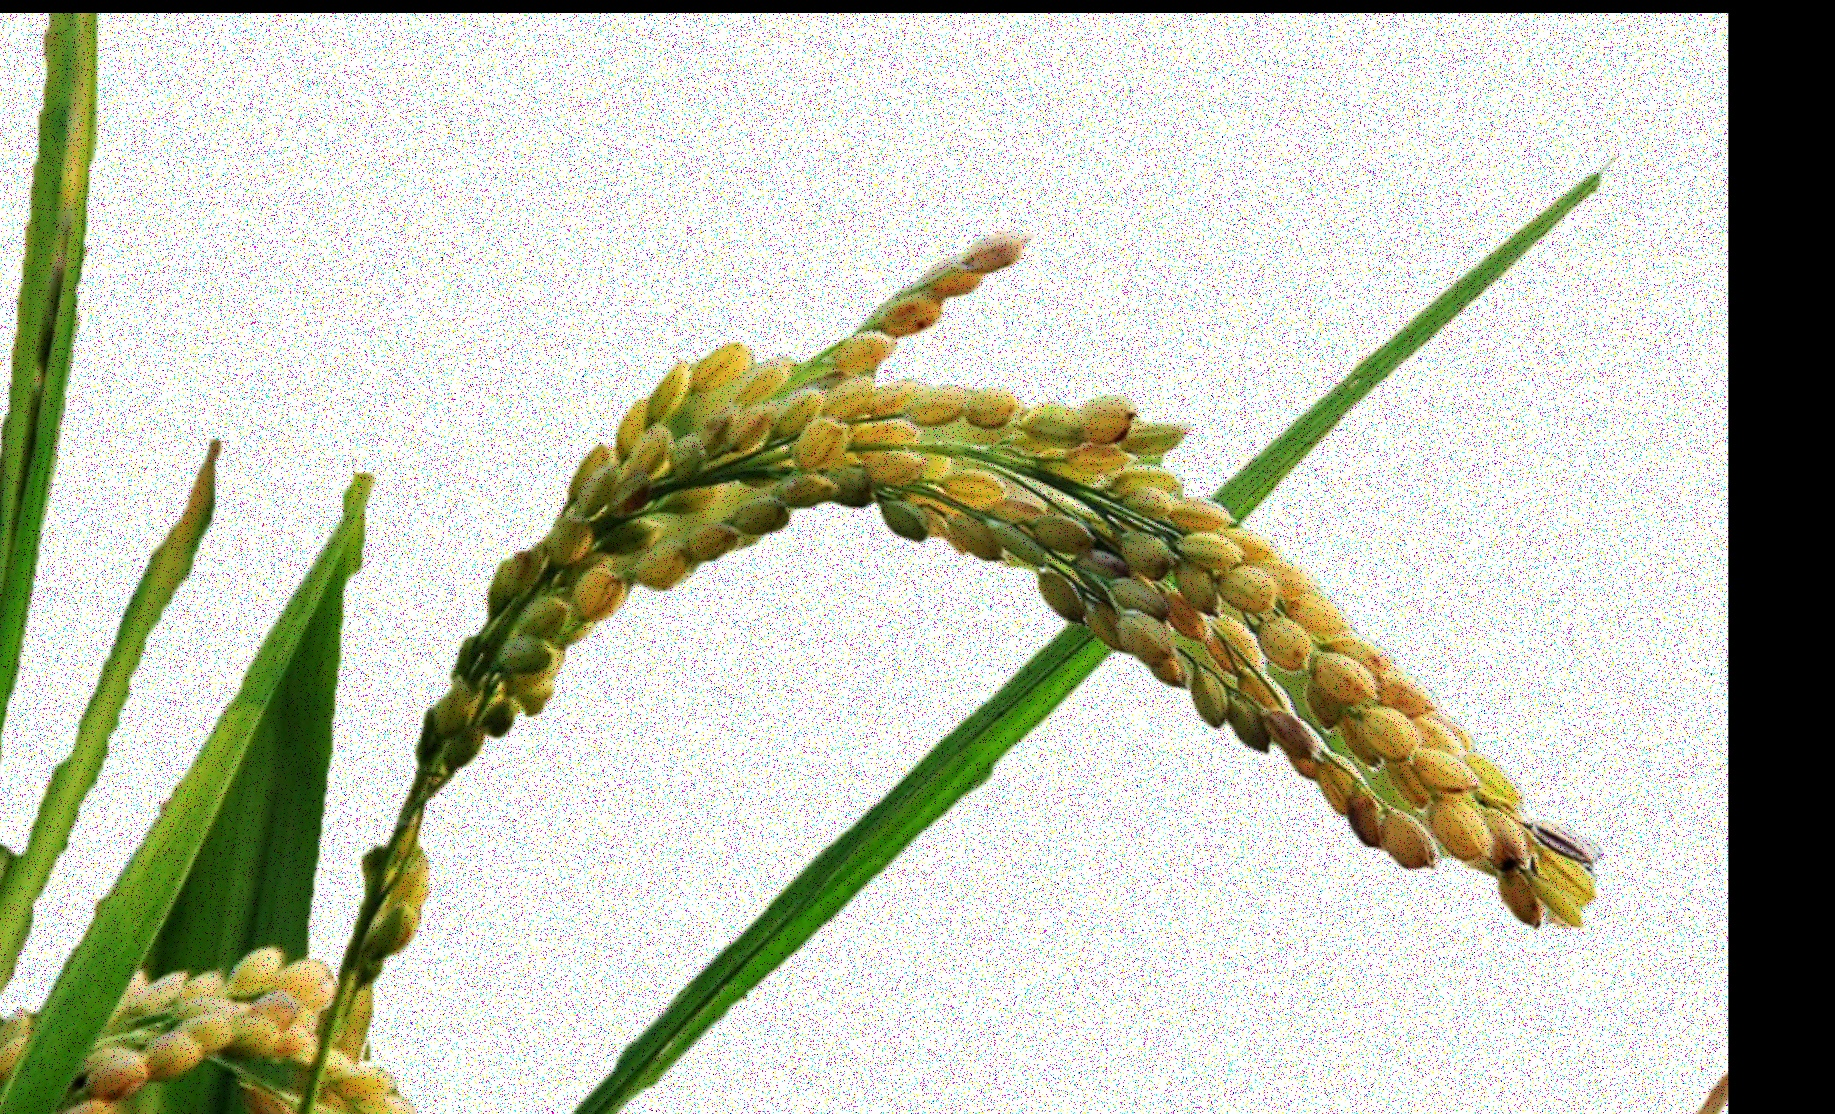rice: (322, 183, 1629, 1041)
